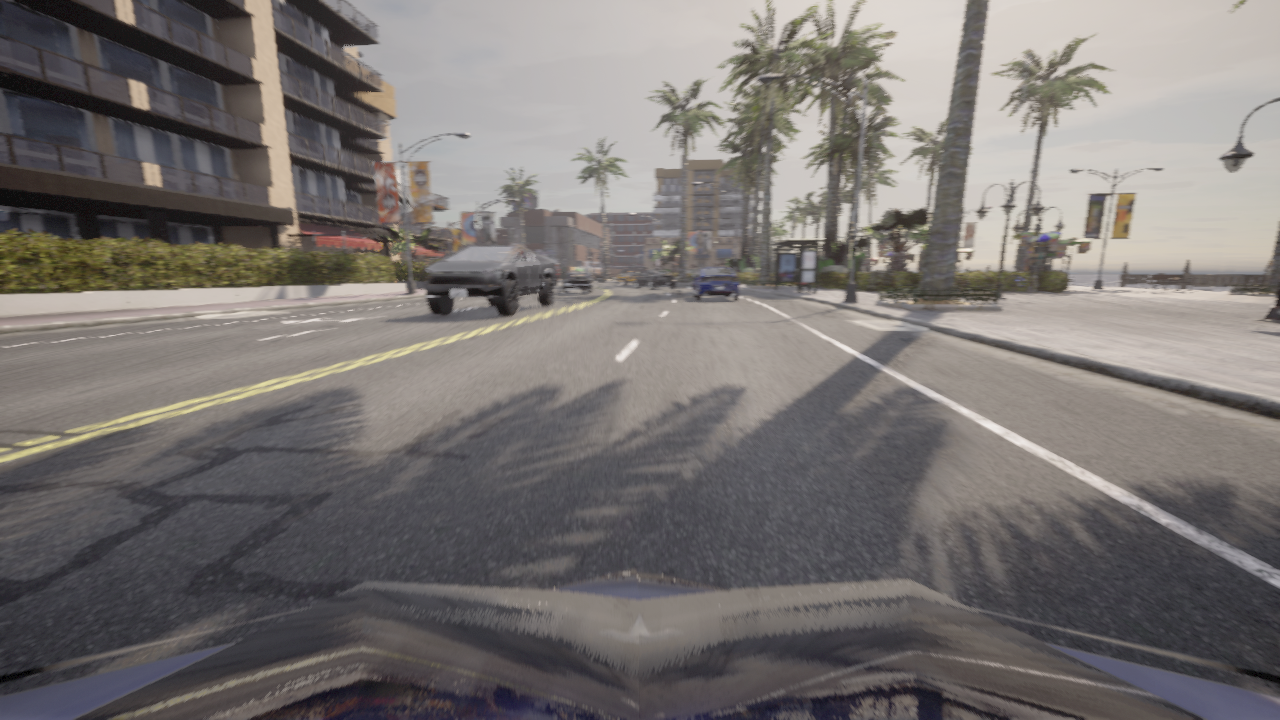cyclist: (0, 569, 1279, 719), (424, 244, 556, 316), (692, 267, 740, 300), (534, 248, 561, 283), (635, 269, 675, 289), (563, 272, 594, 292), (616, 270, 639, 284), (1010, 274, 1027, 291), (956, 274, 969, 287)
